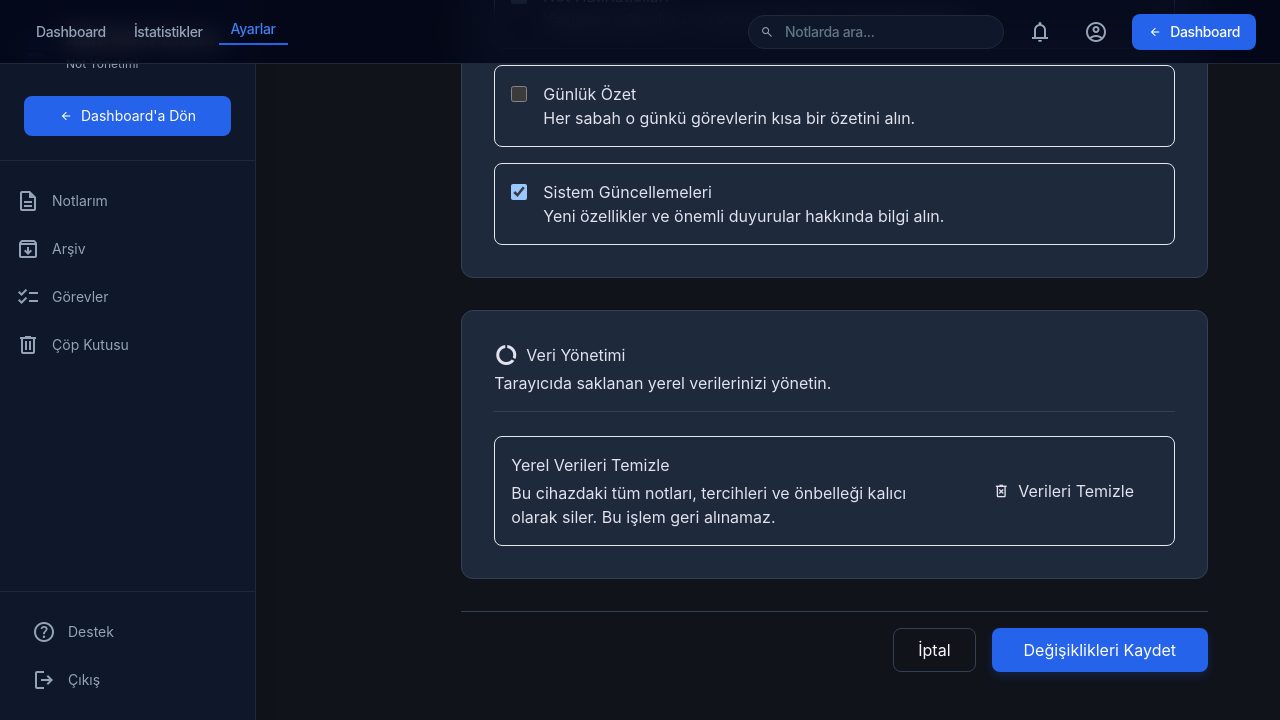
Test: Ayarlar › shows clear data confirmation dialog when Verileri Temizle clicked
(page scrolled)
Click the button "Verileri Temizle".
click(1063, 491)  # box left=968, top=469, right=1158, bottom=513
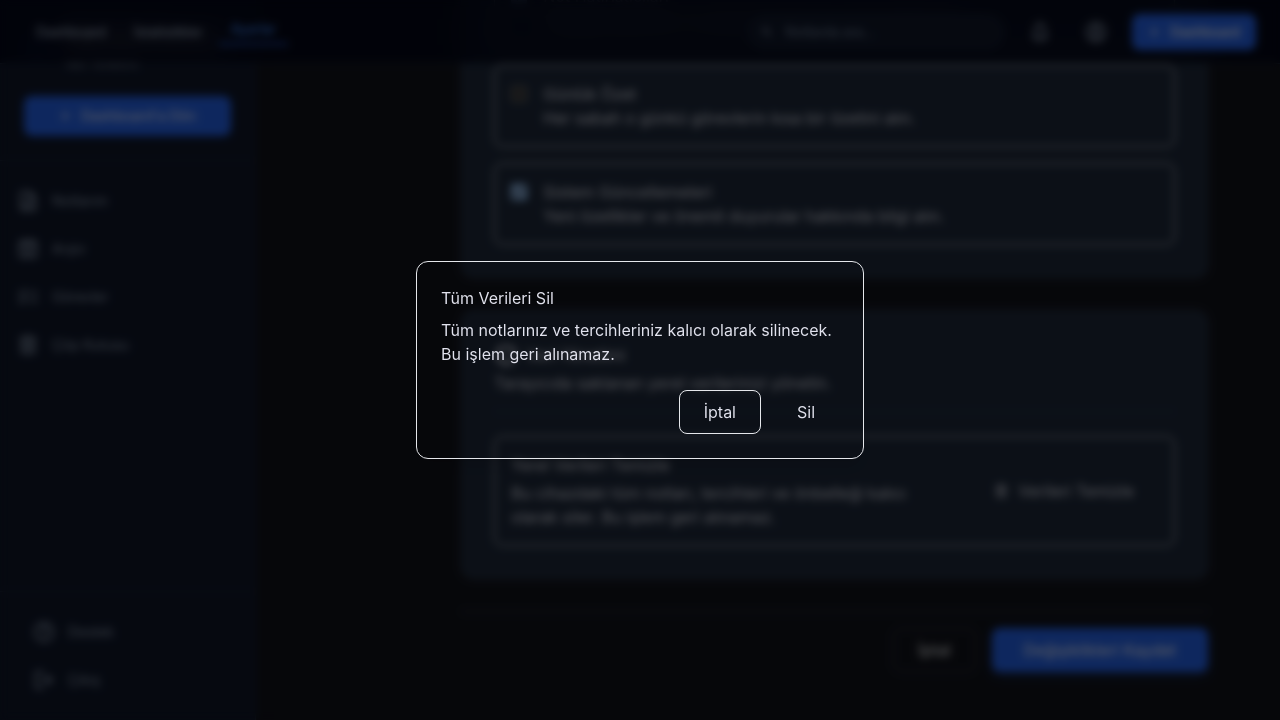
Expected: the heading "Tüm Verileri Sil" is shown, left=441, top=288, right=554, bottom=308
Expected: the text "kalıcı olarak silinecek" is shown, left=441, top=320, right=832, bottom=364
